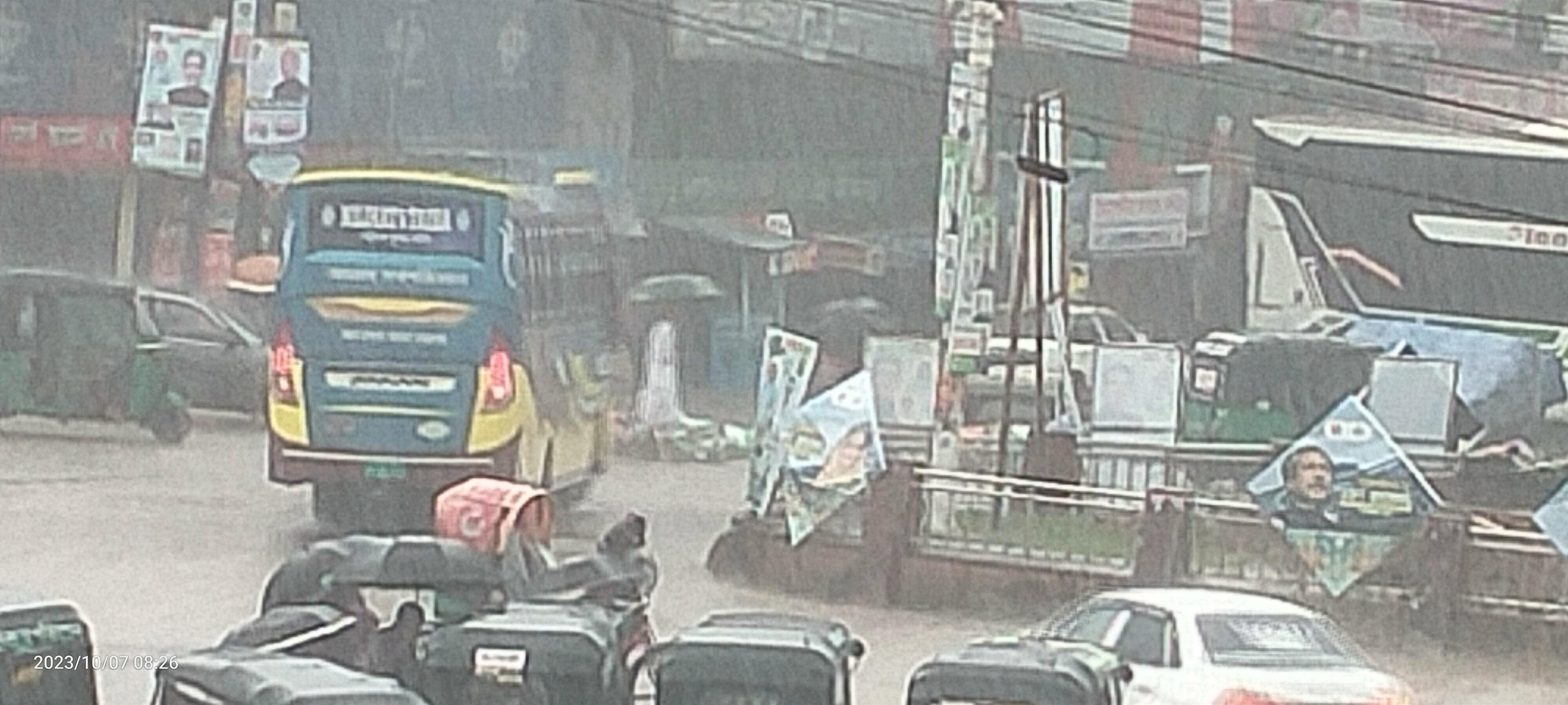Bus: (212, 119, 655, 542)
Car: (1033, 556, 1439, 705)
